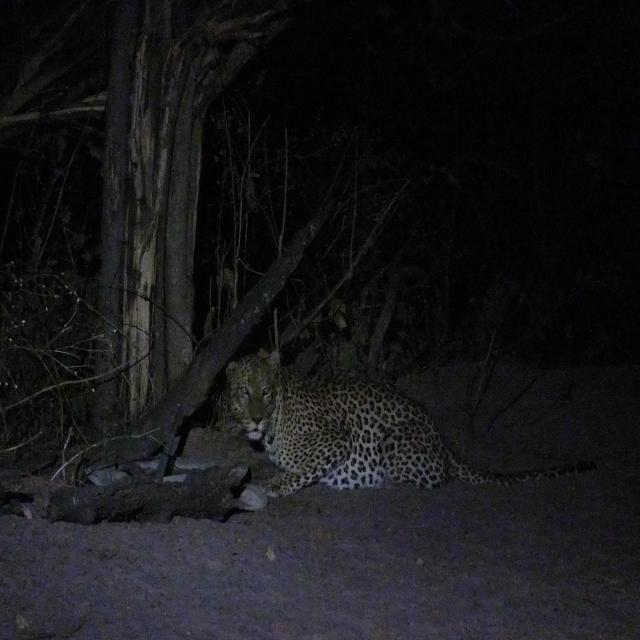Leopard: (233, 368, 523, 501)
